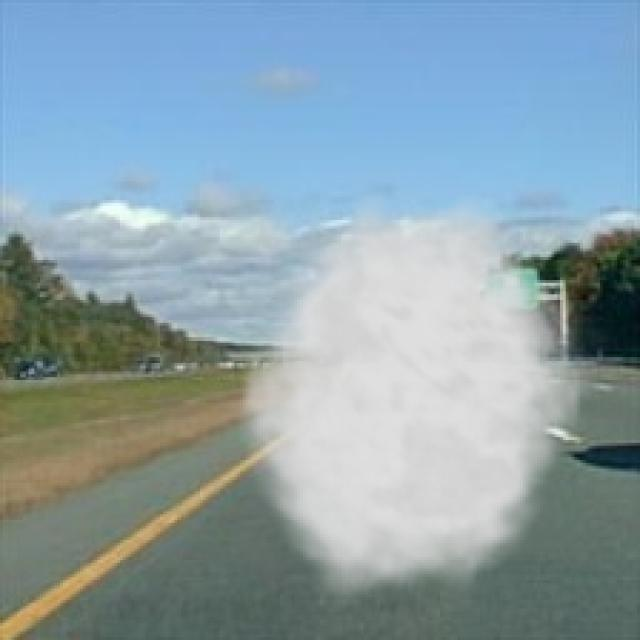smoke: (229, 192, 600, 612)
